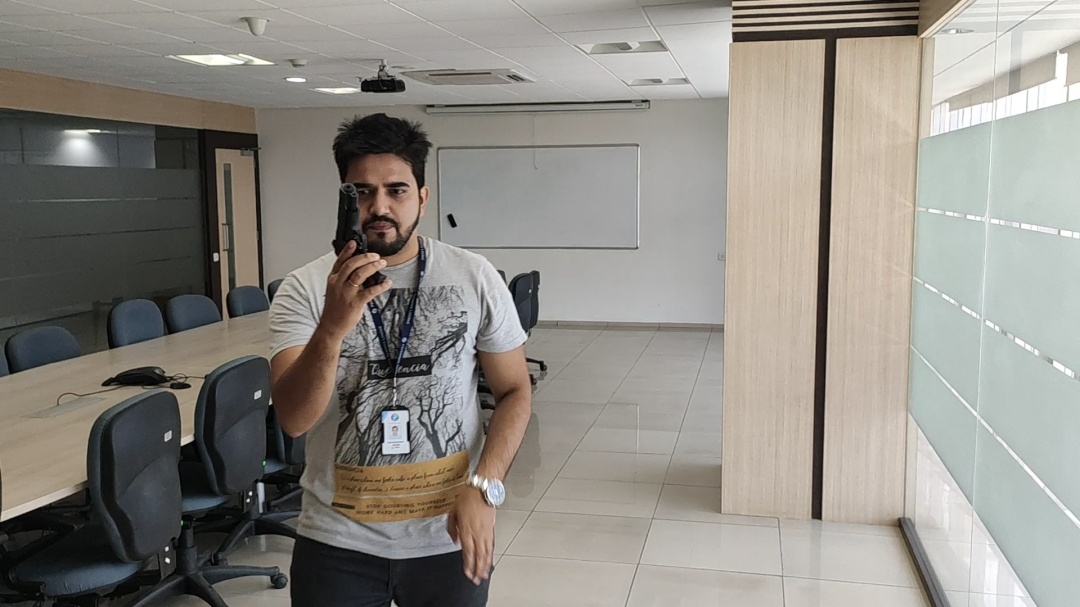gun: (328, 185, 384, 288)
